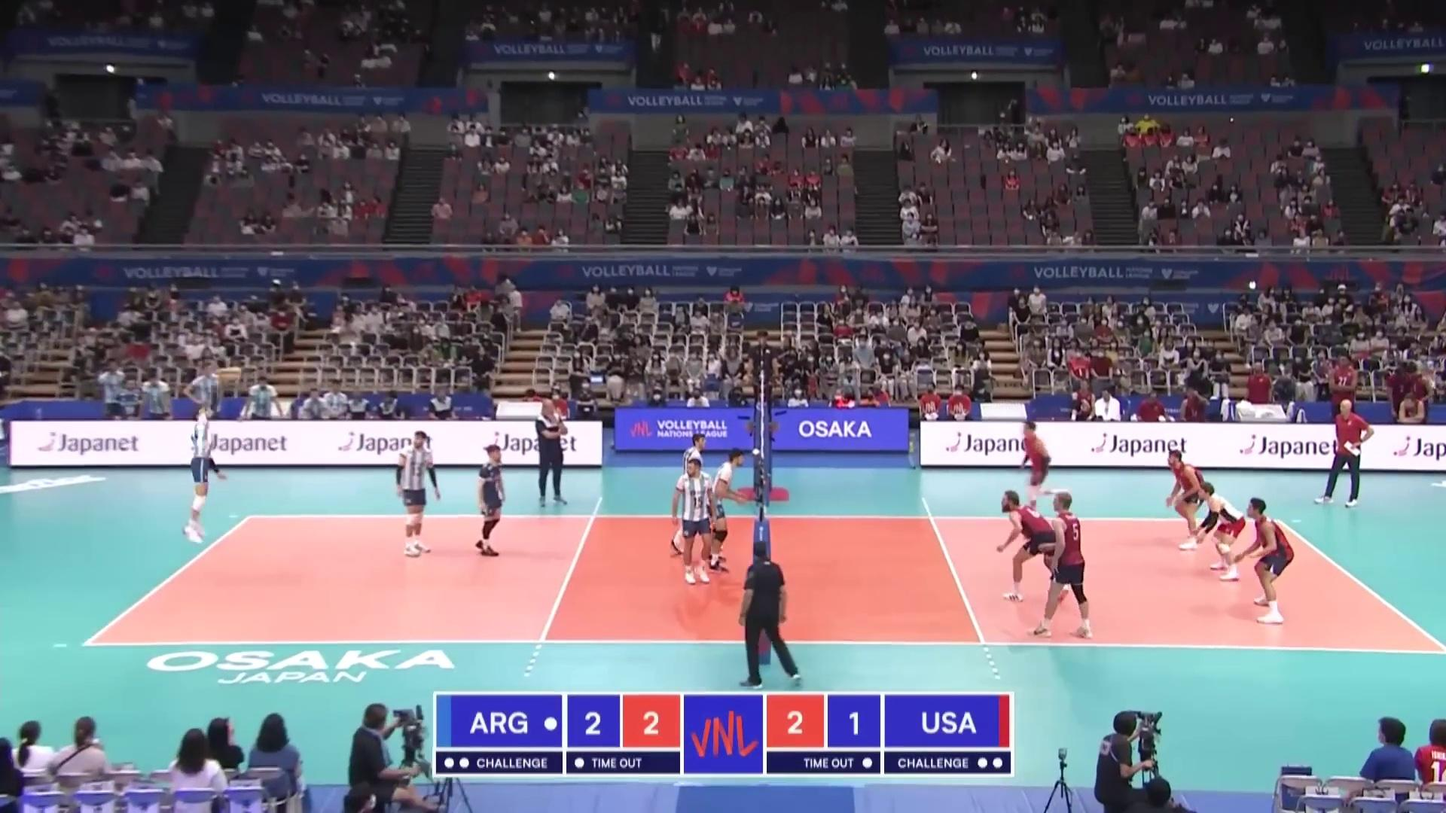player: (1033, 491, 1092, 640), (993, 490, 1068, 602), (1238, 498, 1296, 626), (182, 392, 224, 545), (394, 430, 440, 559), (672, 458, 716, 586), (1193, 484, 1246, 581), (670, 433, 712, 552), (1014, 420, 1065, 515), (707, 448, 746, 572), (1164, 450, 1206, 552), (474, 443, 504, 558)
refree: (740, 543, 794, 688), (746, 330, 779, 435)
